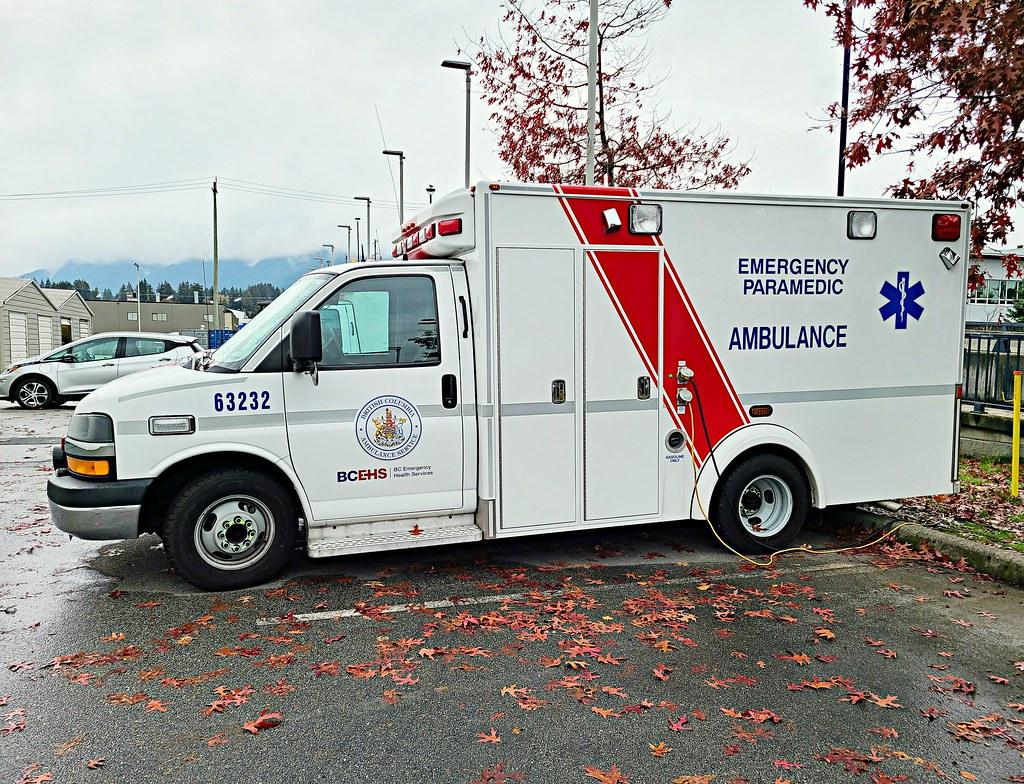ambulance_off: (47, 180, 971, 589)
